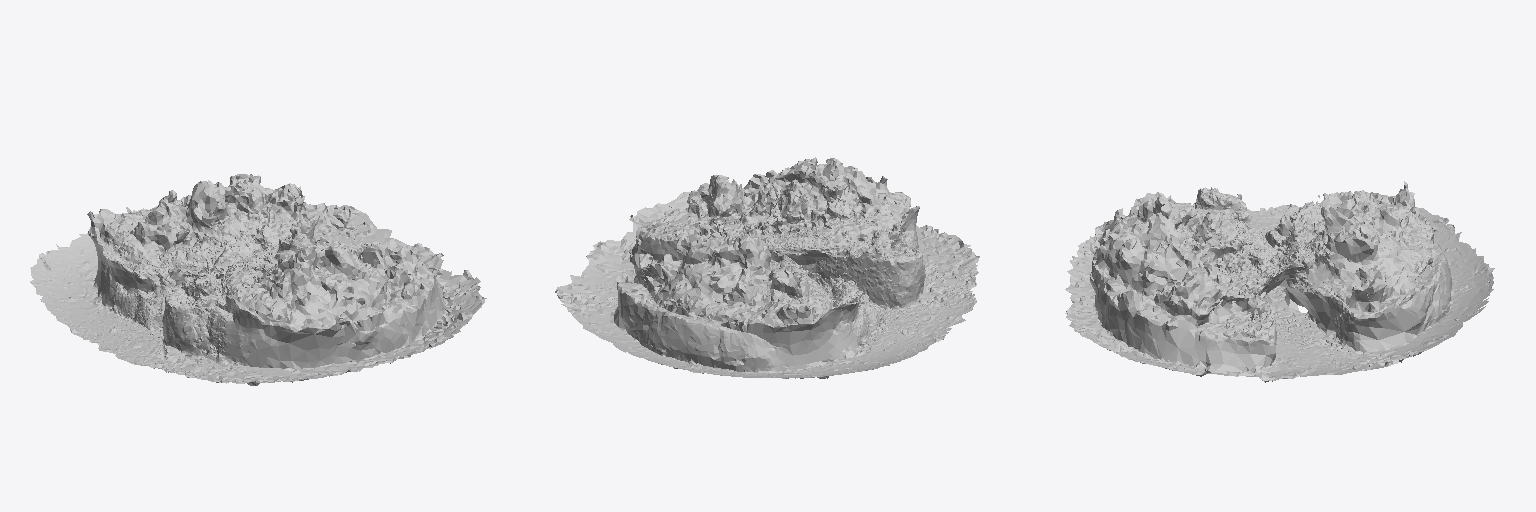
File: EGGS_-_Breakfast_2_50K.obj
3 renders of one model, left to right at view 1: azimuth 30°, elevation 25°; view 2: azimuth 150°, elevation 25°; view 3: azimuth 270°, elevation 25°, orthographic.
Visible parts, largest first — view 1: 50K_default.003; view 2: 50K_default.003; view 3: 50K_default.003.
Boxes of the visible parts, x1,y1,x2,y2 form: 50K_default.003: [30, 174, 486, 385]; 50K_default.003: [555, 157, 979, 378]; 50K_default.003: [1065, 181, 1494, 382].
Size of the model in its own units: 0.1956 by 0.0573 by 0.2021.